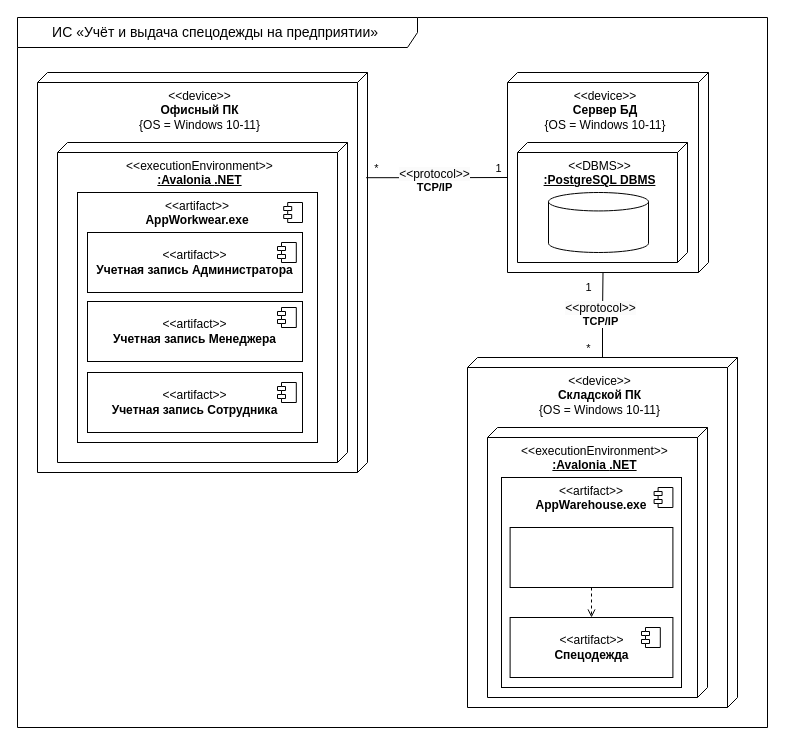
Image size: 785x745. Some labels were removed from this diagram. The centre of each missing label's shape, as x and y in pixels:
<< deployment spec >> СписокСпецодежды.xaml: pixel 591 557
<<database>> БД: pixel 598 222
